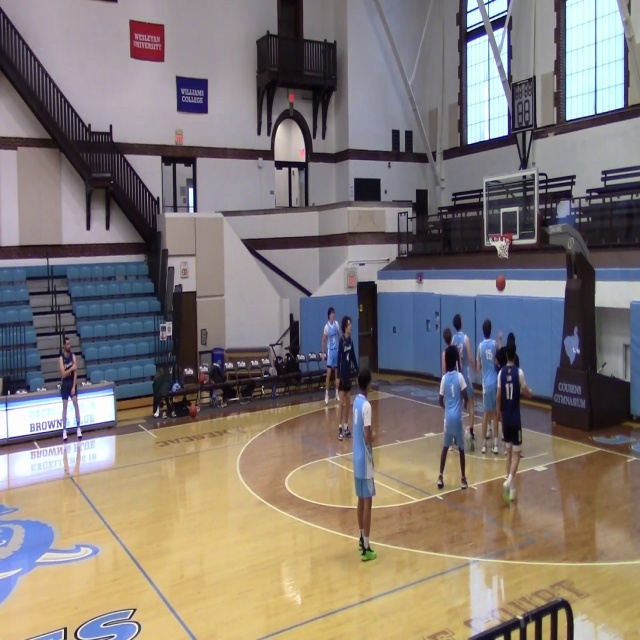Basketball: (496, 275, 505, 291), (521, 387, 533, 398), (443, 328, 451, 344), (189, 405, 197, 417)
